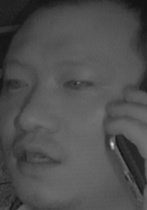eye: (61, 73, 95, 94), (4, 74, 32, 94)
mouth: (9, 140, 61, 175)
